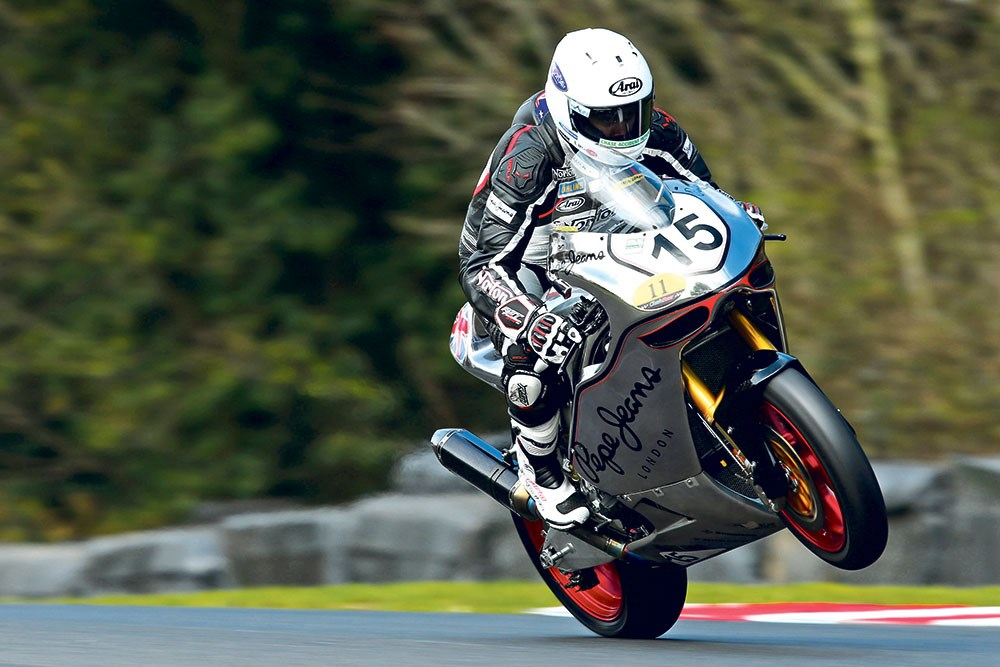helmet: (513, 20, 668, 177)
